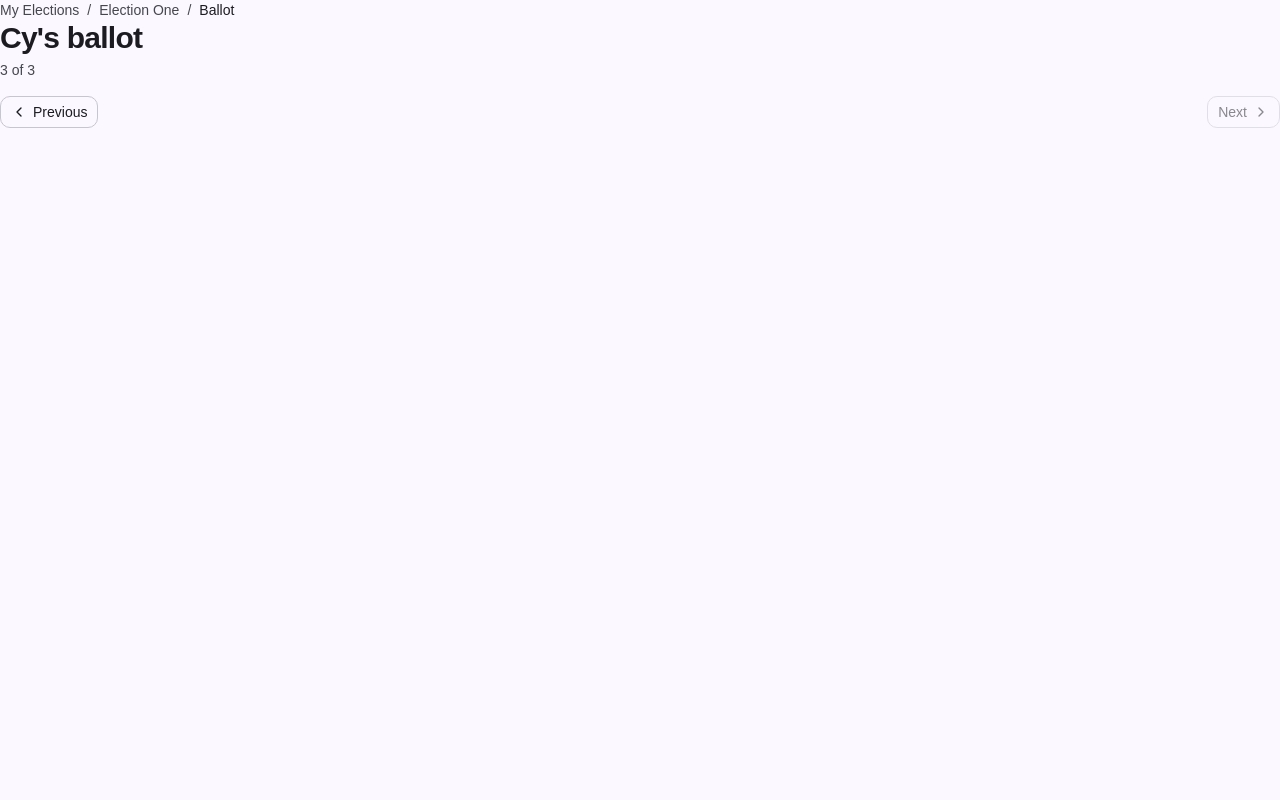
Test case: addressable voters dialog history › gives a cold ballot deep link a concrete voters-dialog back path
The image size is (1280, 800).
Click the link "Election One".
click(139, 10)  # box 99,0 -> 180,20
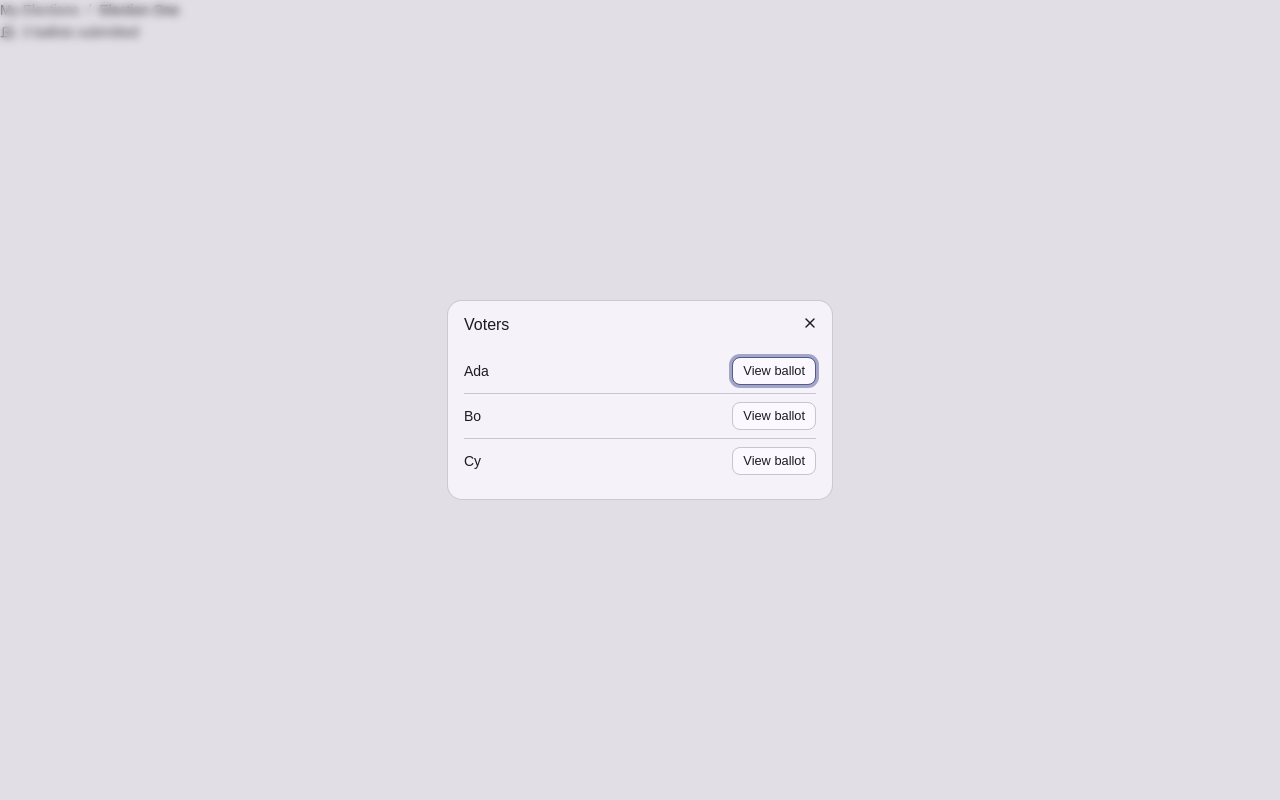
Check: the dialog is shown, box 448,301 -> 832,499
